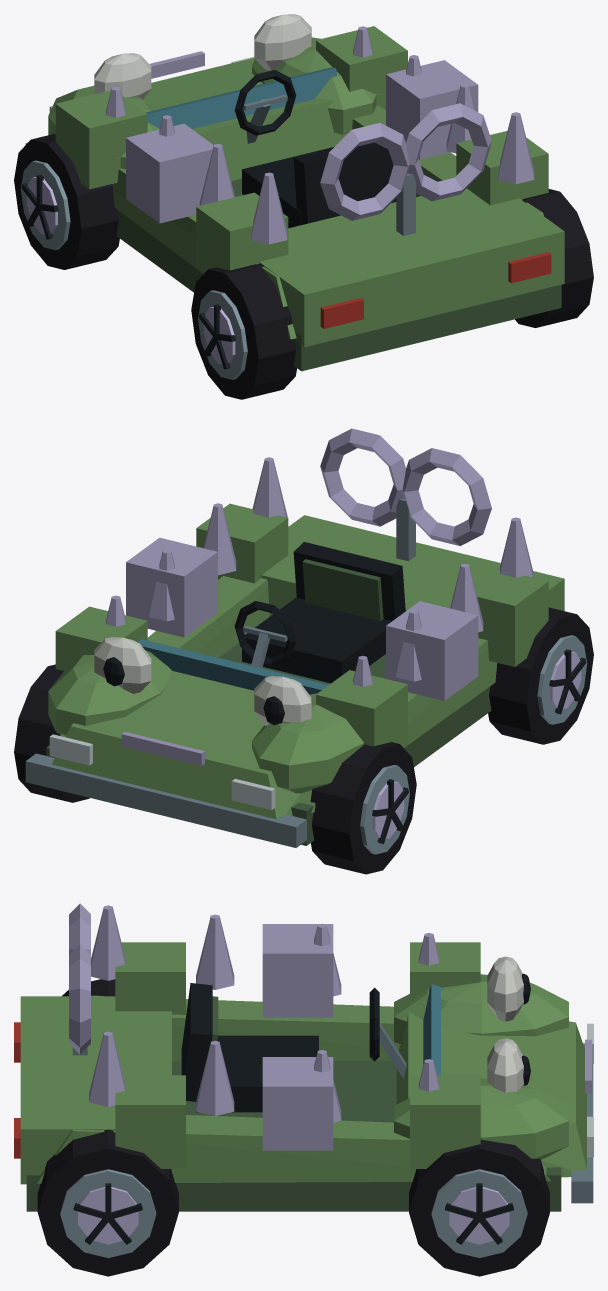
The model's file is kart.glb.
3 views of the same model, one above another, from view 1: azimuth 30°, elevation 25°; view 2: azimuth 150°, elevation 25°; view 3: azimuth 270°, elevation 25° (orthographic). The views are drawn at different scales.
Visible parts, largest first — view 1: identity-toy-car-toy-rounded-body-and-wind-up-key, identity-toy-car-motif-blocks, wheel-rear-left, wheel-front-left, identity-toy-car-driver-cockpit, identity-toy-car-motif-spines, identity-toy-car-motif-eyes, wheel-rear-right; view 2: identity-toy-car-toy-rounded-body-and-wind-up-key, identity-toy-car-motif-blocks, identity-toy-car-driver-cockpit, wheel-front-left, wheel-rear-left, identity-toy-car-motif-spines, identity-toy-car-motif-eyes, wheel-front-right; view 3: identity-toy-car-toy-rounded-body-and-wind-up-key, identity-toy-car-motif-blocks, wheel-rear-right, wheel-front-right, identity-toy-car-motif-spines, identity-toy-car-driver-cockpit, identity-toy-car-motif-eyes.
Boxes of the visible parts, x1,y1,x2,y2 form: identity-toy-car-toy-rounded-body-and-wind-up-key: (25,37,564,371); identity-toy-car-motif-blocks: (55,26,548,273); wheel-rear-left: (191,263,296,399); wheel-front-left: (14,133,119,269); identity-toy-car-driver-cockpit: (234,70,396,227); identity-toy-car-motif-spines: (106,26,534,244); identity-toy-car-motif-eyes: (94,14,311,99); wheel-rear-right: (515,189,593,327); identity-toy-car-toy-rounded-body-and-wind-up-key: (25,428,564,847); identity-toy-car-motif-blocks: (55,503,548,747); identity-toy-car-driver-cockpit: (234,542,405,683); wheel-front-left: (310,742,416,874); wheel-rear-left: (488,607,593,744); identity-toy-car-motif-spines: (106,457,534,686); identity-toy-car-motif-eyes: (94,637,311,726); wheel-front-right: (14,664,89,802); identity-toy-car-toy-rounded-body-and-wind-up-key: (14,903,593,1211); identity-toy-car-motif-blocks: (115,924,480,1168); wheel-rear-right: (37,1129,178,1276); wheel-front-right: (409,1139,549,1276); identity-toy-car-motif-spines: (89,905,439,1122); identity-toy-car-driver-cockpit: (181,983,406,1112); identity-toy-car-motif-eyes: (487,956,530,1092).
Size of the model in its own units: 2.13 by 1.42 by 2.88.
